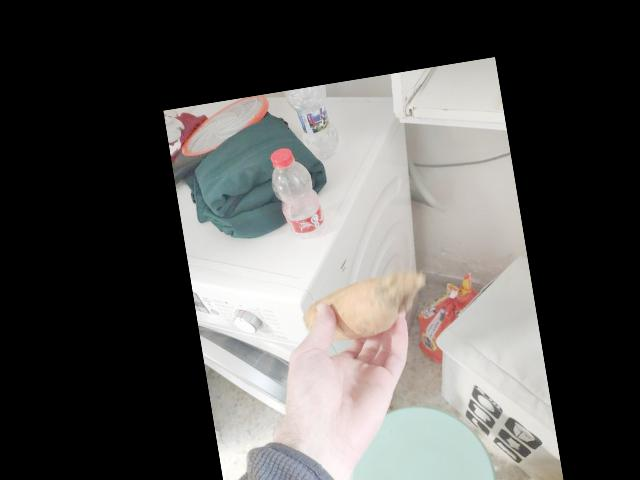sweet_potato: (306, 272, 407, 340)
